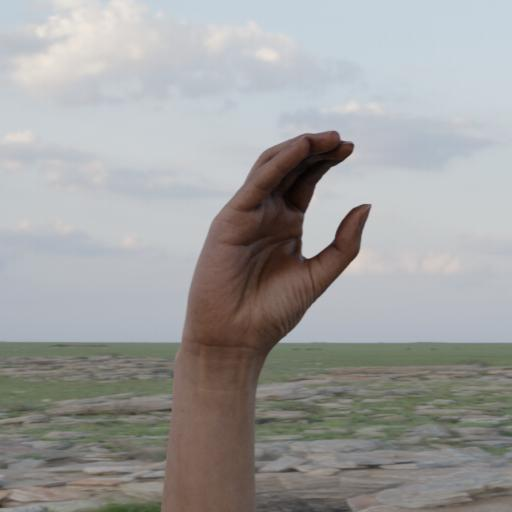C: (179, 112, 380, 473)
